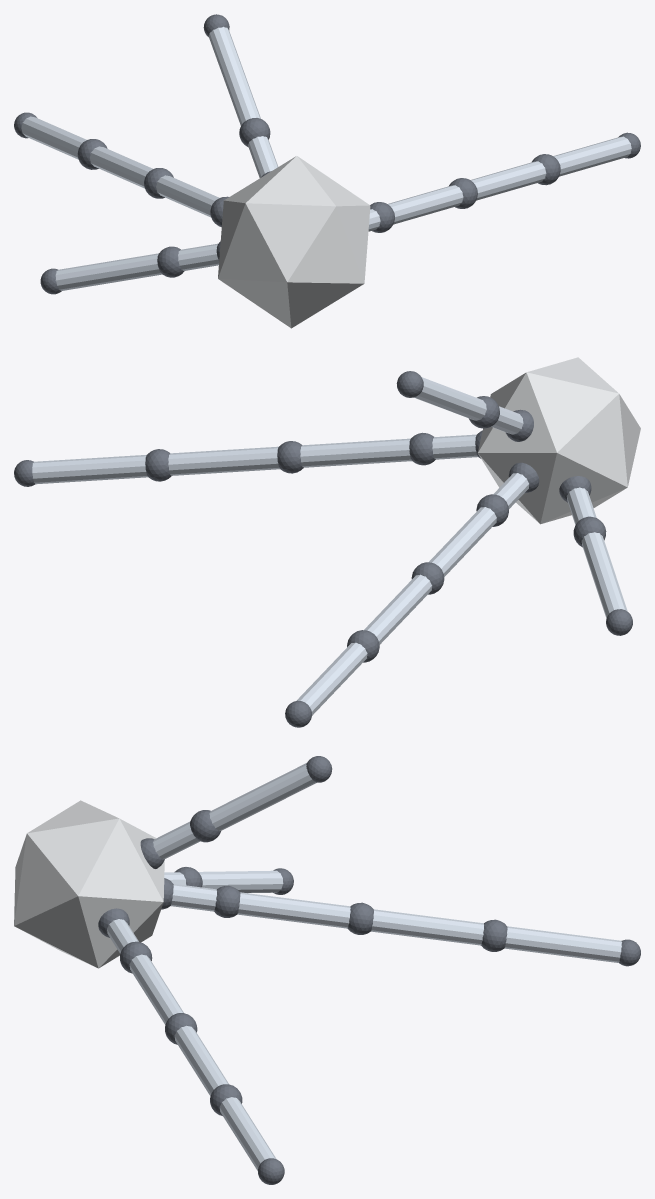
Rendered from g0_4422_0_abs.glb.
3 views of the same model, one above another, from view 1: azimuth 30°, elevation 25°; view 2: azimuth 150°, elevation 25°; view 3: azimuth 270°, elevation 25° (orthographic). The views are drawn at different scales.
Parts seen in each view (by area): view 1: geom_0, geom_27, geom_4, geom_13, geom_9, geom_11, geom_22, geom_18, geom_20, geom_25, geom_2, geom_26 (+6 smaller); view 2: geom_0, geom_13, geom_9, geom_11, geom_27, geom_22, geom_18, geom_20, geom_4, geom_7, geom_10, geom_8 (+12 smaller); view 3: geom_0, geom_22, geom_18, geom_20, geom_4, geom_13, geom_11, geom_9, geom_27, geom_16, geom_2, geom_21 (+4 smaller).
Part boxes in pixels (x1=…): geom_0: x1=218, y1=156, x2=370, y2=328; geom_27: x1=55, y1=253, x2=161, y2=290; geom_4: x1=208, y1=26, x2=260, y2=125; geom_13: x1=553, y1=136, x2=631, y2=176; geom_9: x1=387, y1=185, x2=463, y2=224; geom_11: x1=470, y1=161, x2=546, y2=200; geom_22: x1=21, y1=116, x2=86, y2=159; geom_18: x1=156, y1=175, x2=219, y2=217; geom_20: x1=89, y1=146, x2=152, y2=188; geom_25: x1=178, y1=243, x2=218, y2=270; geom_2: x1=248, y1=136, x2=278, y2=177; geom_26: x1=157, y1=246, x2=184, y2=277; geom_0: x1=478, y1=357, x2=640, y2=524; geom_13: x1=32, y1=454, x2=147, y2=484; geom_9: x1=300, y1=438, x2=411, y2=467; geom_11: x1=168, y1=446, x2=279, y2=475; geom_27: x1=581, y1=532, x2=627, y2=618; geom_22: x1=296, y1=642, x2=367, y2=715; geom_18: x1=429, y1=507, x2=496, y2=576; geom_20: x1=364, y1=574, x2=432, y2=644; geom_4: x1=414, y1=377, x2=486, y2=420; geom_7: x1=432, y1=434, x2=477, y2=459; geom_10: x1=277, y1=441, x2=303, y2=473; geom_8: x1=409, y1=432, x2=435, y2=465; geom_0: x1=14, y1=800, x2=164, y2=968; geom_22: x1=504, y1=926, x2=621, y2=962; geom_18: x1=237, y1=892, x2=350, y2=928; geom_20: x1=371, y1=909, x2=483, y2=945; geom_4: x1=209, y1=763, x2=316, y2=830; geom_13: x1=219, y1=1097, x2=276, y2=1170; geom_11: x1=174, y1=1025, x2=228, y2=1096; geom_9: x1=129, y1=954, x2=183, y2=1024; geom_27: x1=198, y1=870, x2=283, y2=893; geom_16: x1=171, y1=884, x2=216, y2=911; geom_2: x1=153, y1=821, x2=199, y2=859; geom_21: x1=481, y1=919, x2=507, y2=951.
Size of the model in its own units: 0.6335 by 0.2245 by 0.5572.
